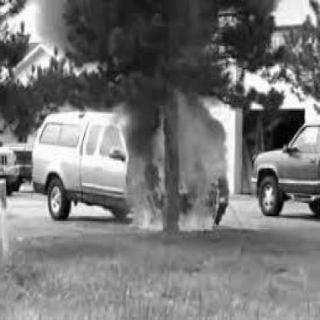Fire: (124, 119, 226, 232)
